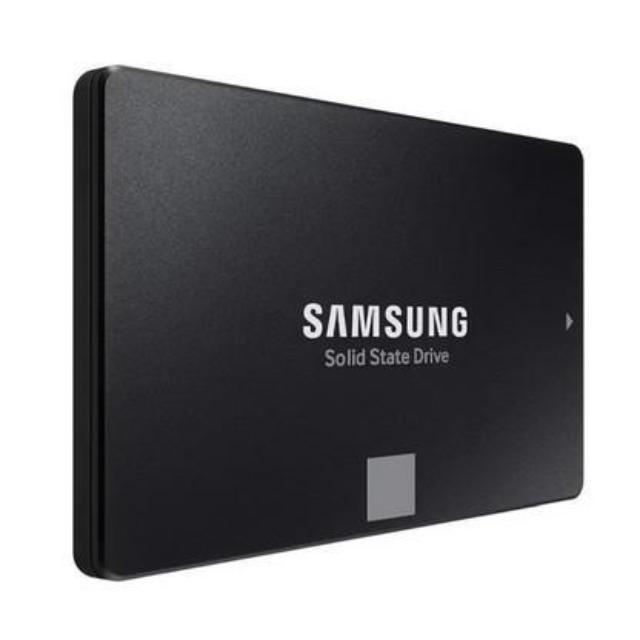DISK: (65, 54, 587, 577)
